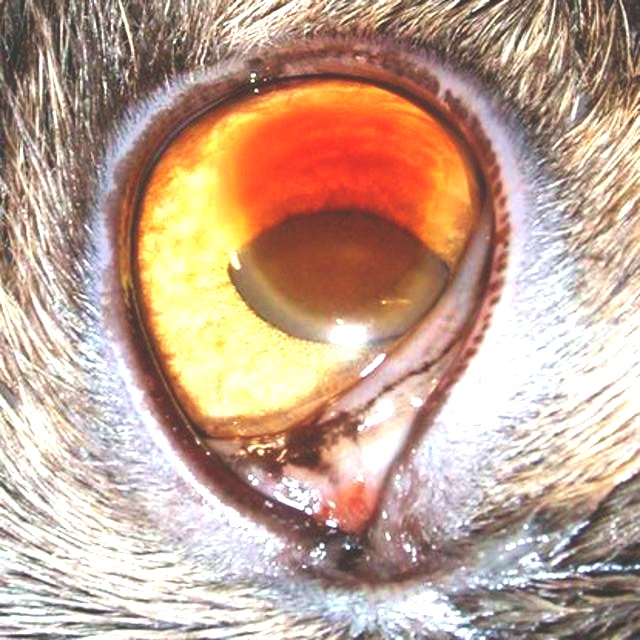eye_infection: (110, 70, 505, 550)
